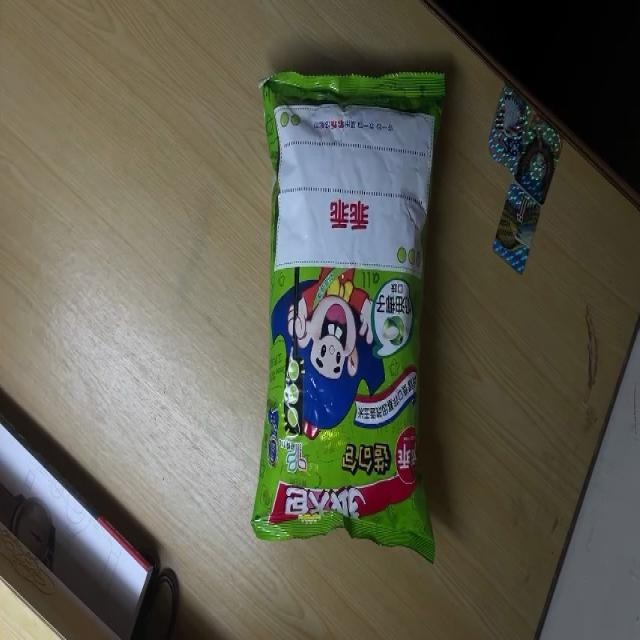Good-Luck: (259, 74, 443, 567)
